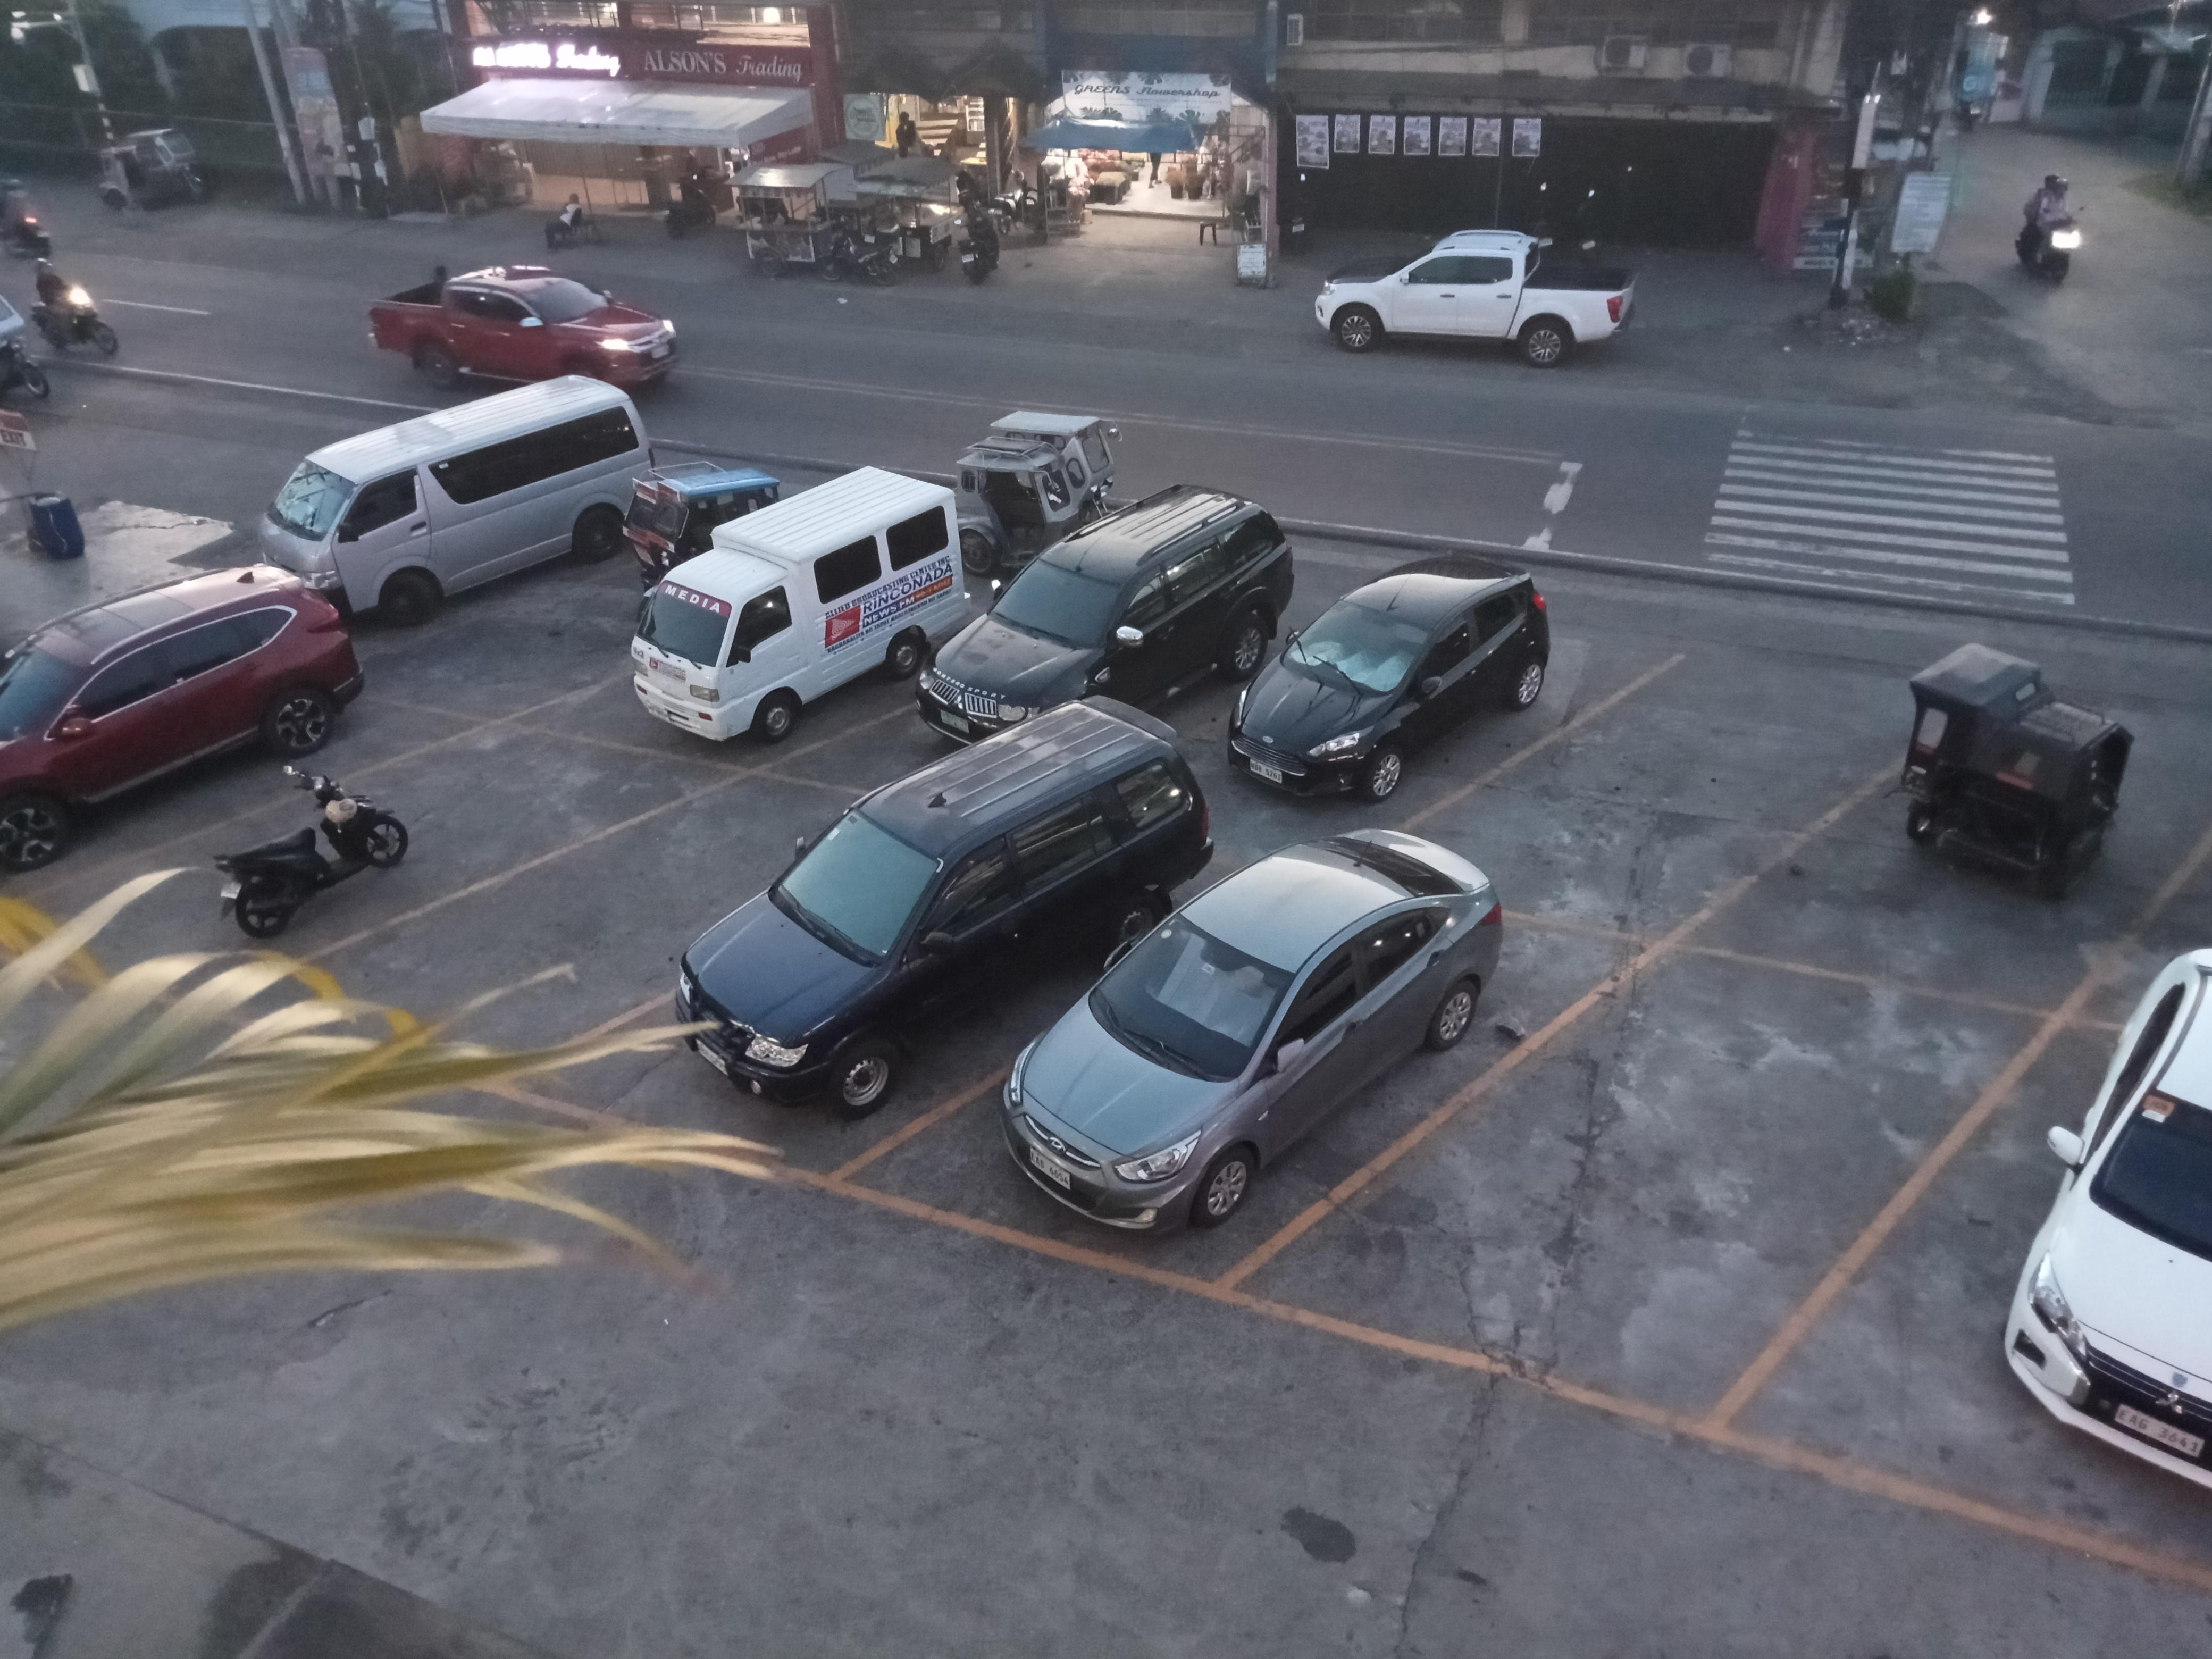occupied: (808, 854, 1679, 1305), (463, 805, 1322, 1199), (2, 713, 782, 999)
vacant: (1198, 932, 2080, 1448), (207, 765, 1029, 1098), (1294, 648, 1965, 962)
